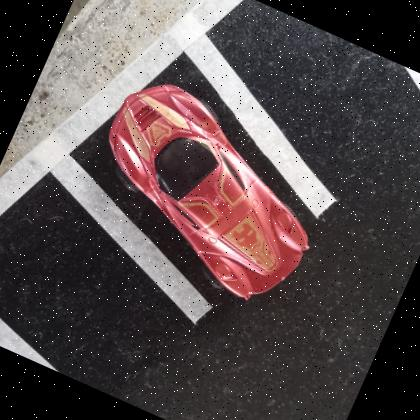Car: (108, 82, 310, 298)
